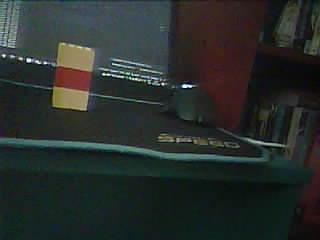lego: (52, 41, 95, 110)
